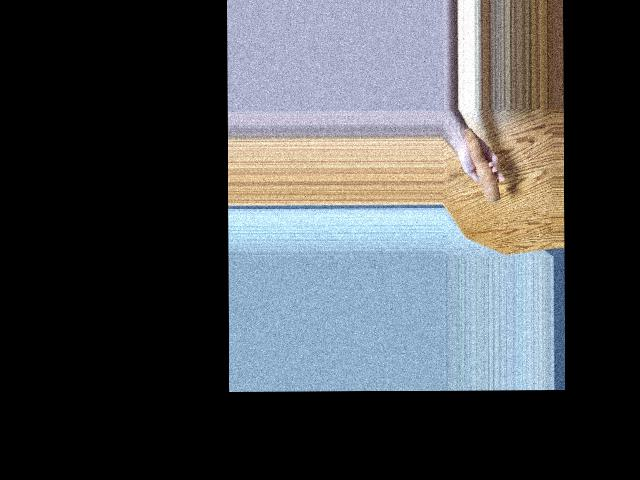sweet_potato: (462, 125, 501, 202)
